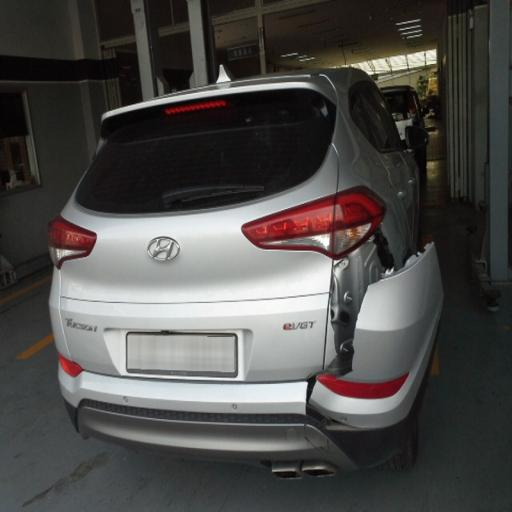broken: (303, 206, 461, 464)
